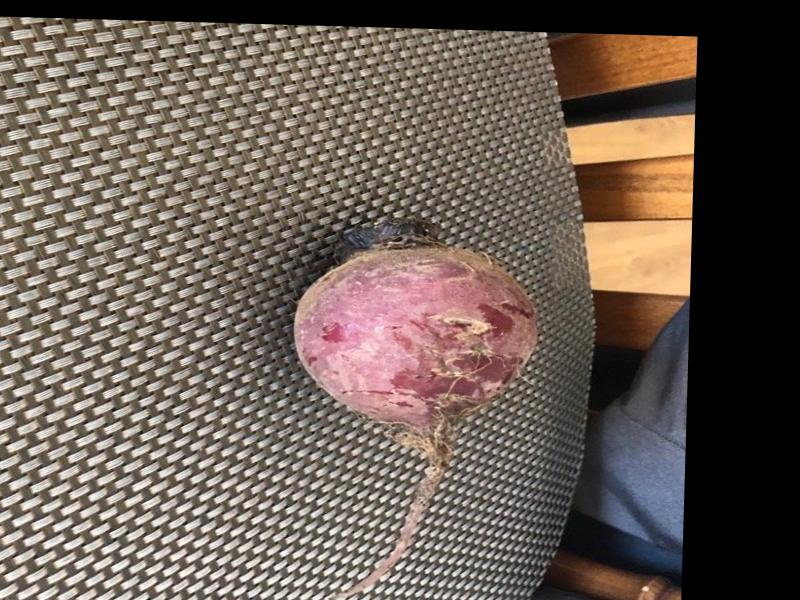Beet: (288, 211, 543, 599)
